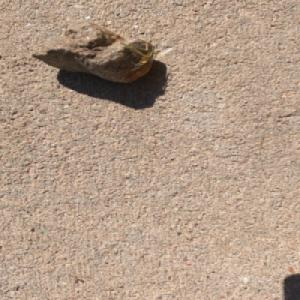Rock: (30, 19, 158, 83)
